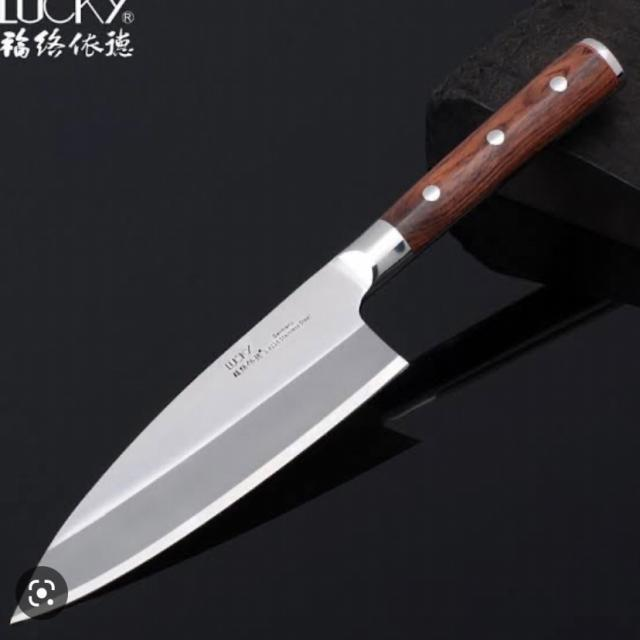Knife: (2, 22, 640, 634)
